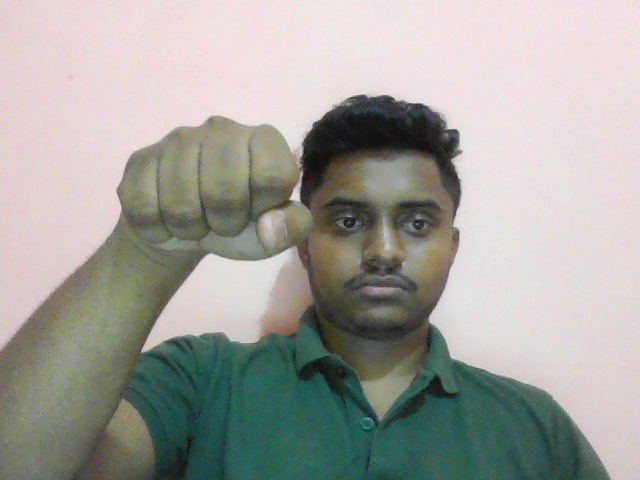Yes: (106, 112, 325, 272)
